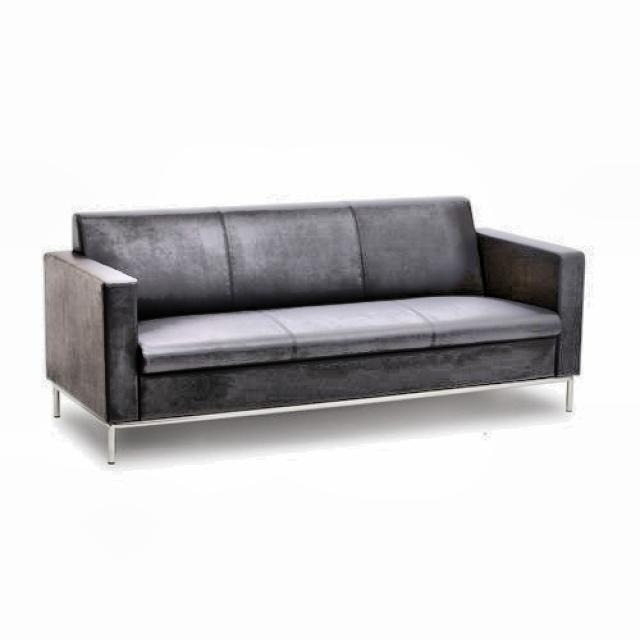sofa: (42, 193, 585, 465)
